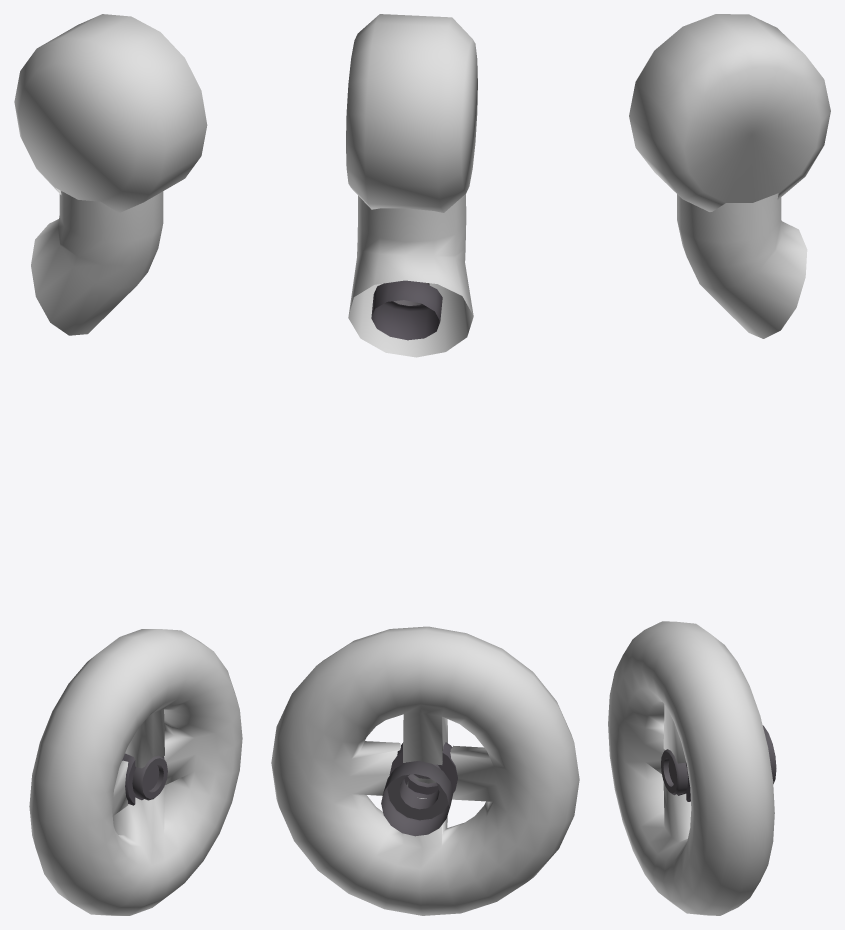
Rendered from furnace_upg2.fbx.
The picture shows the model from 3 angles, left to right: view 1: azimuth 30°, elevation 25°; view 2: azimuth 150°, elevation 25°; view 3: azimuth 270°, elevation 25°; orthographic projection. The views are drawn at different scales.
Visible parts, largest first — view 1: furnace_upg2; view 2: furnace_upg2; view 3: furnace_upg2.
Part boxes in pixels (<box>): furnace_upg2: <box>14,14,242,915</box>; furnace_upg2: <box>271,14,579,915</box>; furnace_upg2: <box>608,14,830,915</box>.
Size of the model in its own units: 43.11 by 147 by 33.9.
